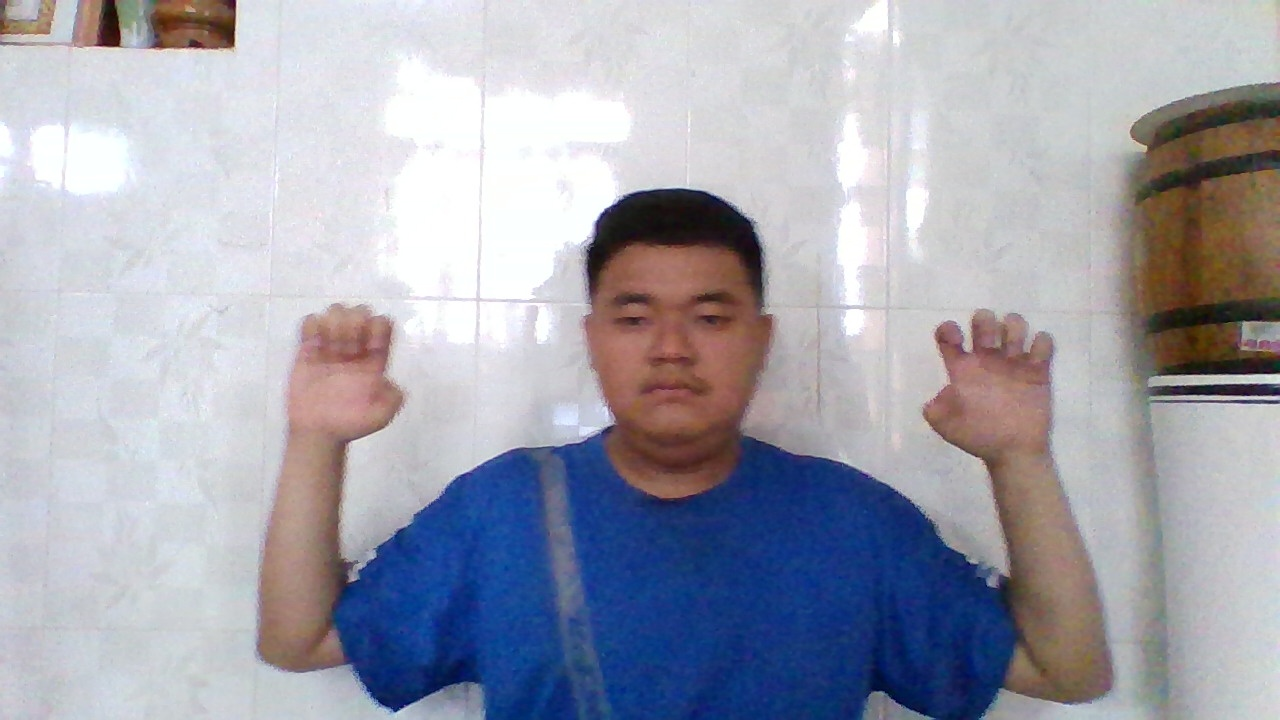E: (916, 300, 1063, 467), (293, 293, 411, 449)
